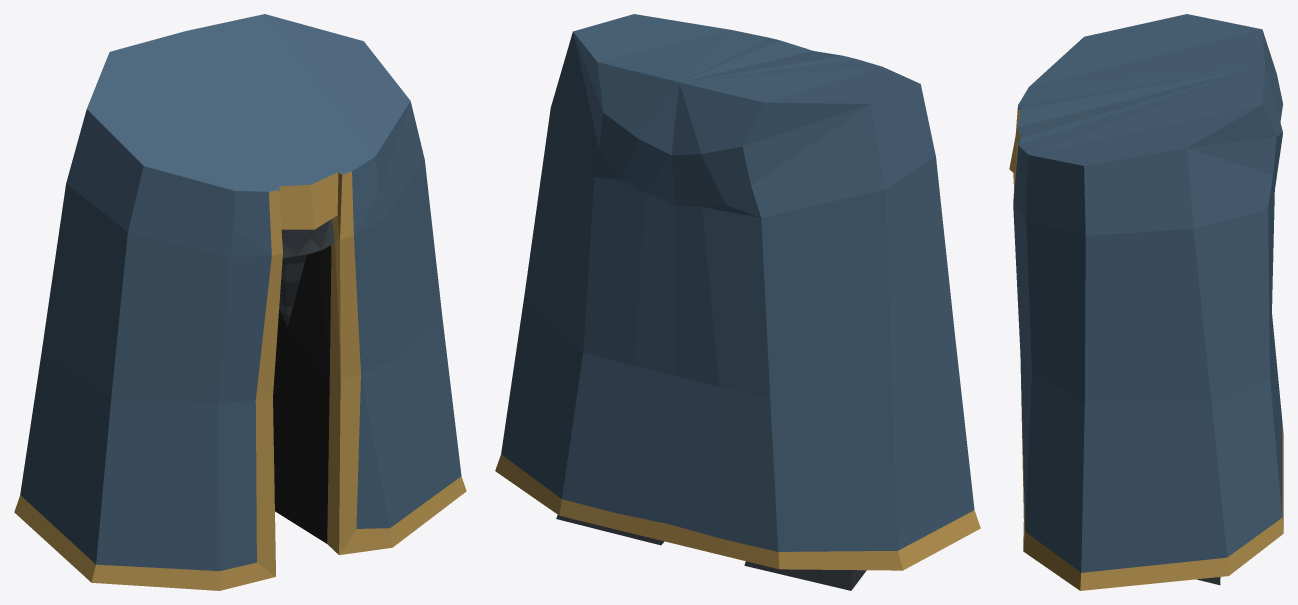
The model's file is Chr_Hips_Male_05_Static.fbx.
3 views of the same model, side by side, from view 1: azimuth 30°, elevation 25°; view 2: azimuth 150°, elevation 25°; view 3: azimuth 270°, elevation 25° (orthographic). The views are drawn at different scales.
Visible parts, largest first — view 1: Chr_Hips_Male_05_Static; view 2: Chr_Hips_Male_05_Static; view 3: Chr_Hips_Male_05_Static.
Part boxes in pixels (<box>): Chr_Hips_Male_05_Static: <box>14,14,466,590</box>; Chr_Hips_Male_05_Static: <box>495,14,980,590</box>; Chr_Hips_Male_05_Static: <box>1009,14,1283,590</box>.
Size of the model in its own units: 0.4828 by 0.5545 by 0.3045.
